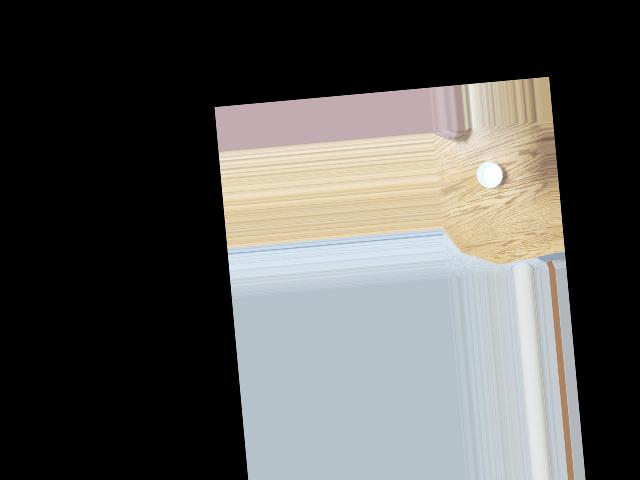cotage: (474, 157, 503, 191)
